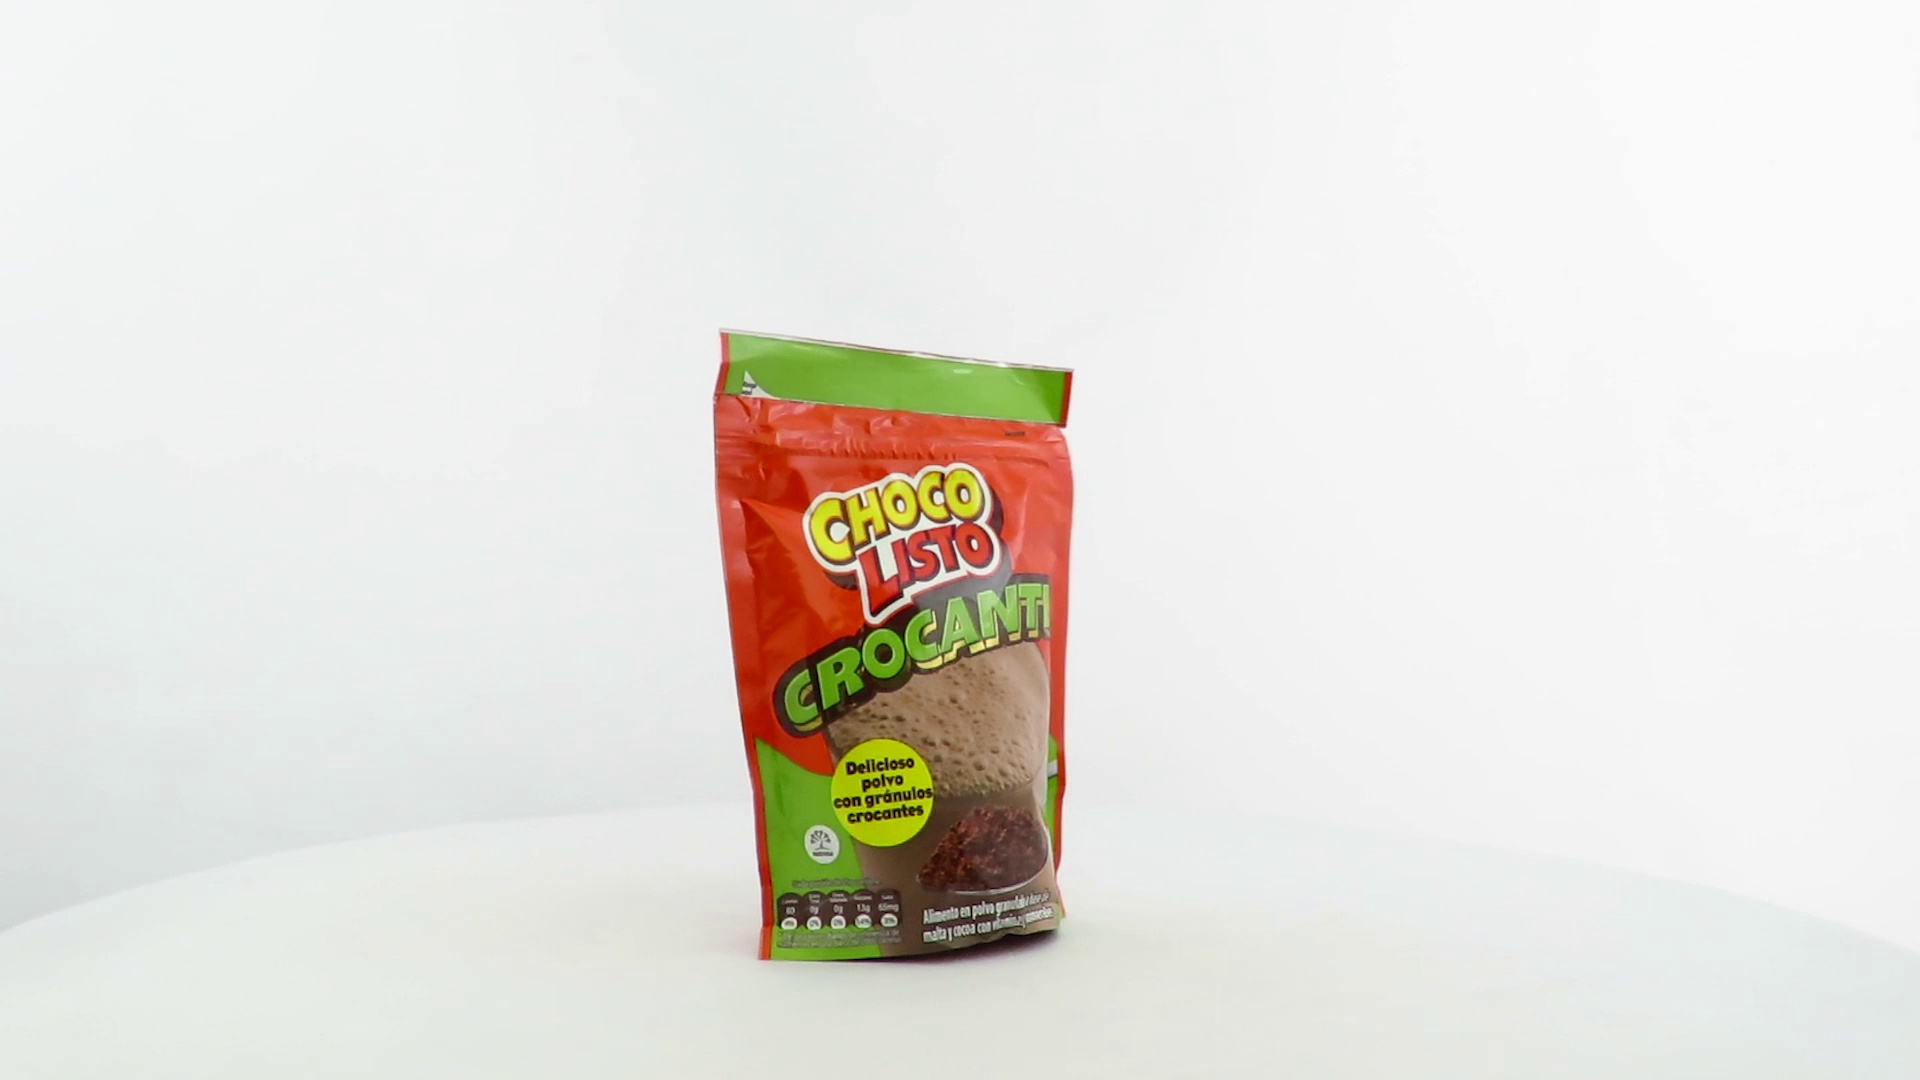COL0170102DYP10000: (708, 322, 1081, 971)
